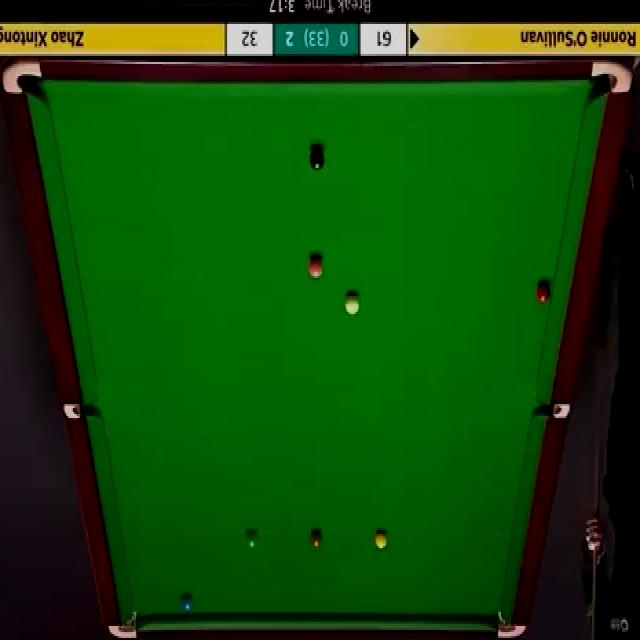black-ball: (311, 147, 325, 173)
blue-ball: (180, 594, 194, 613)
brown-ball: (310, 531, 323, 548)
green-ball: (244, 528, 258, 552)
pink-ball: (307, 250, 325, 281)
red-ball: (535, 282, 551, 305)
white-ball: (344, 292, 362, 318)
yellow-ball: (374, 530, 388, 551)
